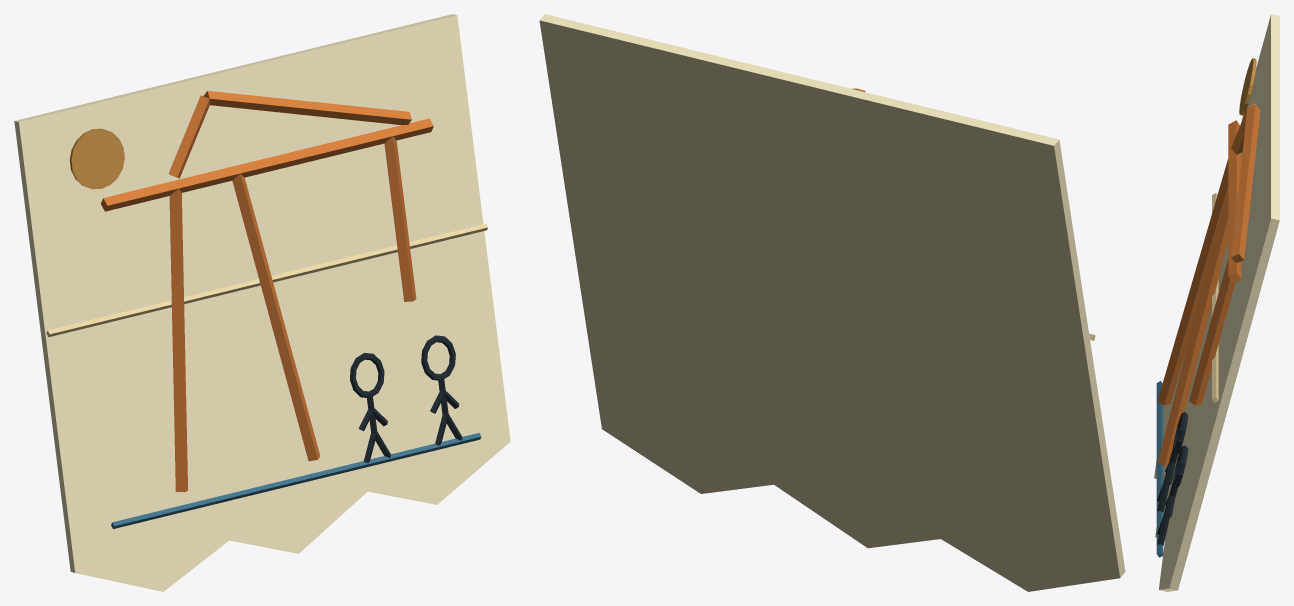
The picture shows the model from 3 angles, left to right: view 1: azimuth 30°, elevation 25°; view 2: azimuth 150°, elevation 25°; view 3: azimuth 270°, elevation 25°; orthographic projection. The views are drawn at different scales.
Parts seen in each view (by area): view 1: C1-05_pale, C1-05_orange, C1-05_ink, C1-05_paper, C1-05_blue, C1-05_brass; view 2: C1-05_pale; view 3: C1-05_pale, C1-05_orange, C1-05_ink, C1-05_blue, C1-05_paper, C1-05_brass.
Boxes of the visible parts, x1,y1,x2,y2 form: C1-05_pale: (14, 14, 510, 591); C1-05_orange: (101, 90, 433, 492); C1-05_ink: (350, 335, 462, 462); C1-05_paper: (46, 223, 488, 337); C1-05_blue: (111, 433, 481, 528); C1-05_brass: (69, 128, 124, 189); C1-05_pale: (539, 14, 1125, 591); C1-05_pale: (1154, 14, 1279, 591); C1-05_orange: (1157, 103, 1260, 465); C1-05_ink: (1157, 412, 1188, 545); C1-05_blue: (1156, 381, 1163, 557); C1-05_paper: (1212, 193, 1218, 402); C1-05_brass: (1239, 58, 1256, 115).
Size of the model in its own units: 0.43 by 0.4192 by 0.1118.
